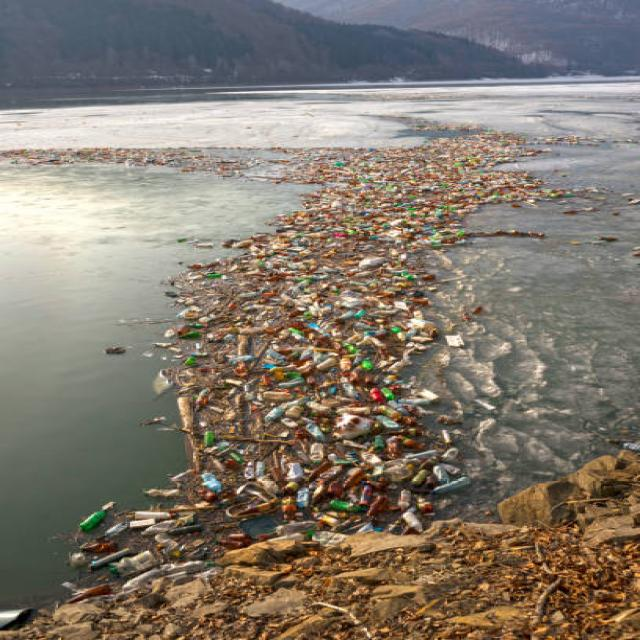garbage: (194, 281, 423, 522), (274, 144, 538, 264), (80, 514, 197, 576)
